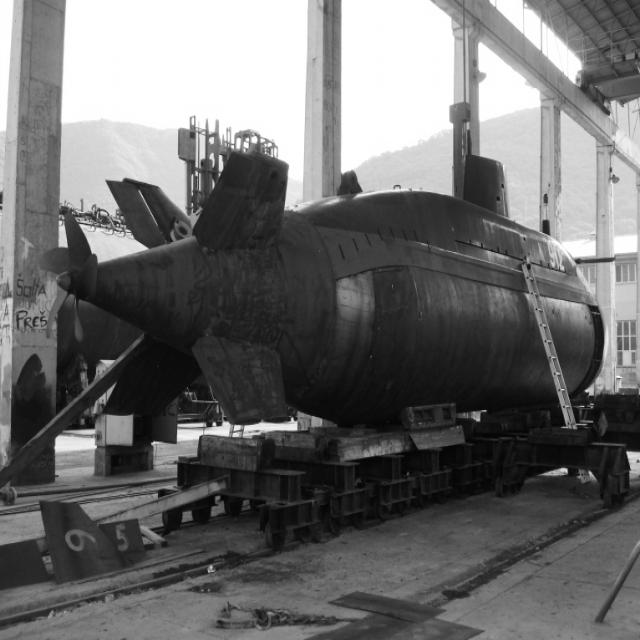submarine: (45, 150, 618, 431)
